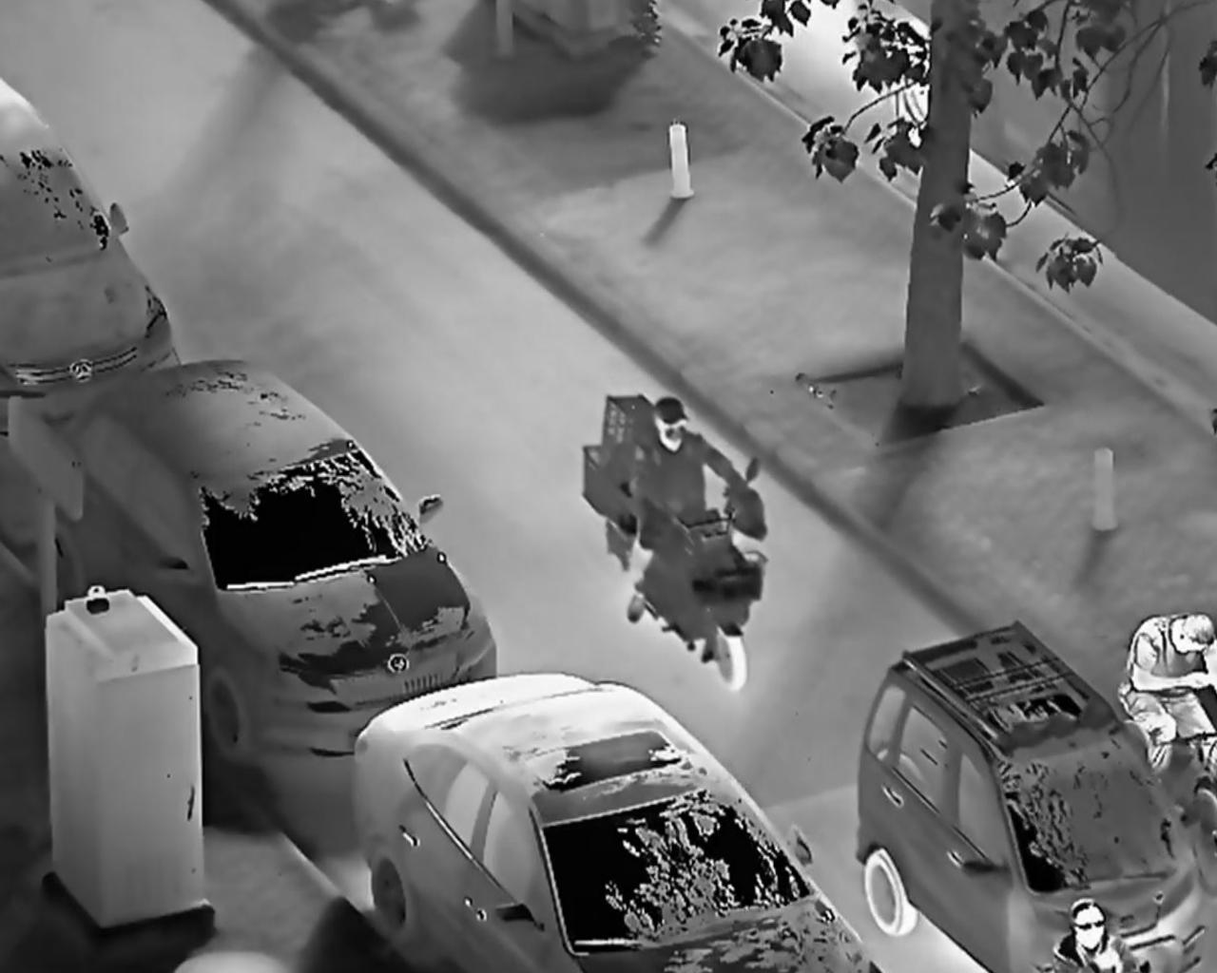person: (626, 390, 757, 627), (1120, 607, 1217, 775), (1033, 888, 1140, 973)
